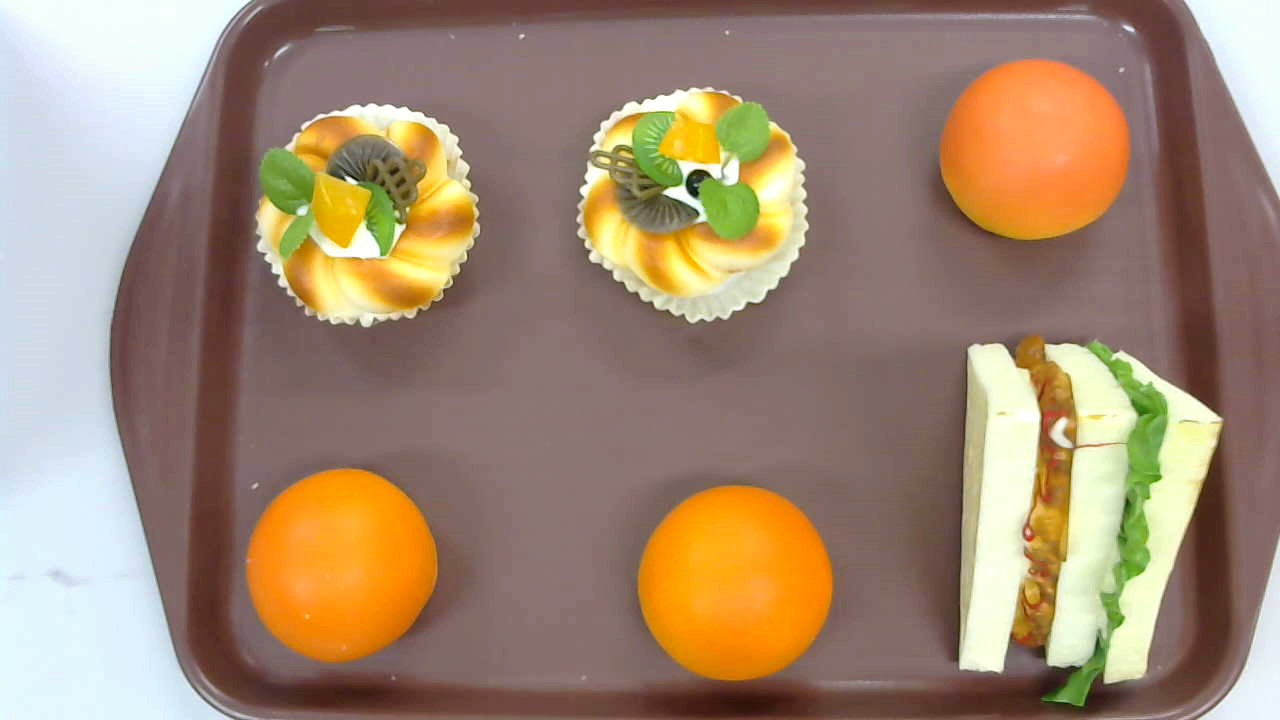bun: (635, 483, 834, 681), (247, 468, 436, 663), (939, 58, 1131, 243)
fruit tart: (575, 87, 810, 325), (255, 102, 479, 329)
sandwich: (959, 334, 1222, 709)
